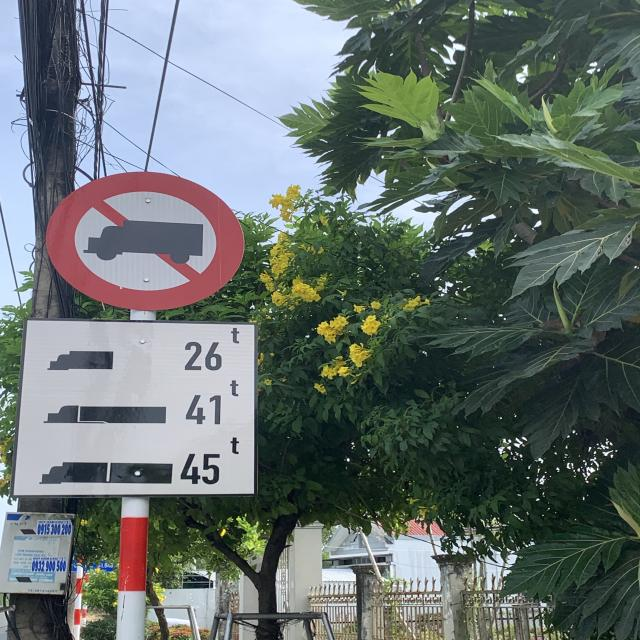Cam_Xe_Tai: (41, 169, 244, 309)
